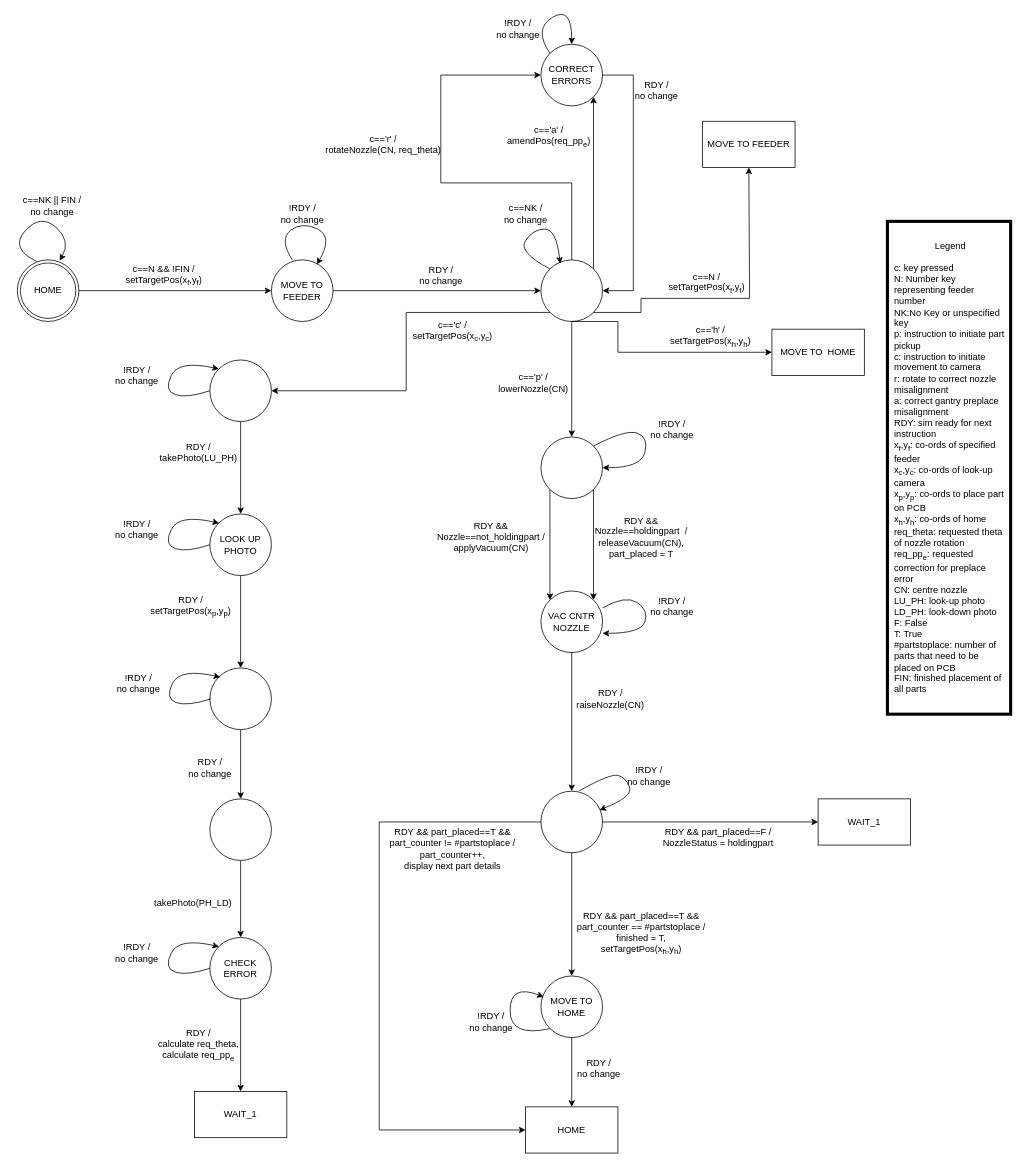
Some shapes in this 1025 by 1167 pixel diagram are drawn without their labels. The centre of each missing label's shape, as x and y in pixels:
LOOK DOWN PHOTO: [240,829]
LOWER CNTR NOZZLE: [571,467]
MOVE TO CAMERA: [240,390]
MOVE TO PCB: [240,698]
RAISE CNTR NOZZLE: [571,821]
WAIT 1: [571,290]
